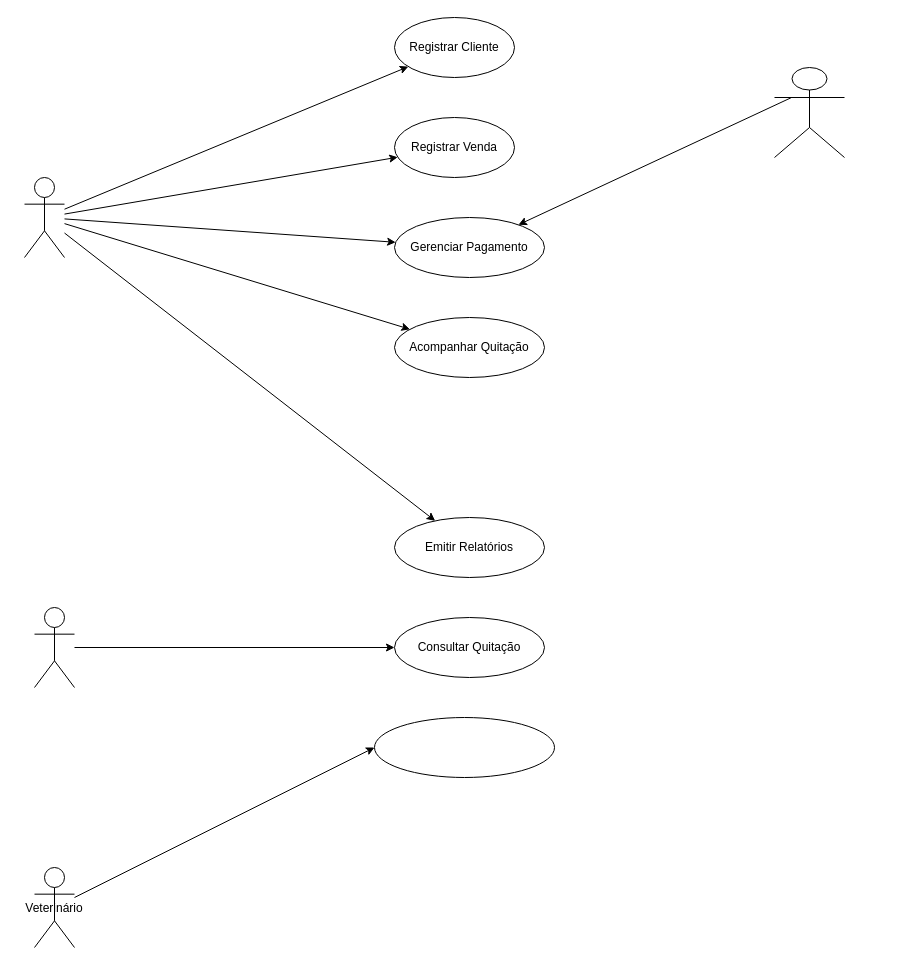
This 907x965 diagram has some shape labels left out. Here are the shapes that lost their labels. From the top down, the centre of each, then its label:
the point at 809,112: Sistema Externo (Pagamento)
the point at 44,217: Atendente
the point at 54,647: Cliente
the point at 464,747: Escrivão Avaliação Periódica
